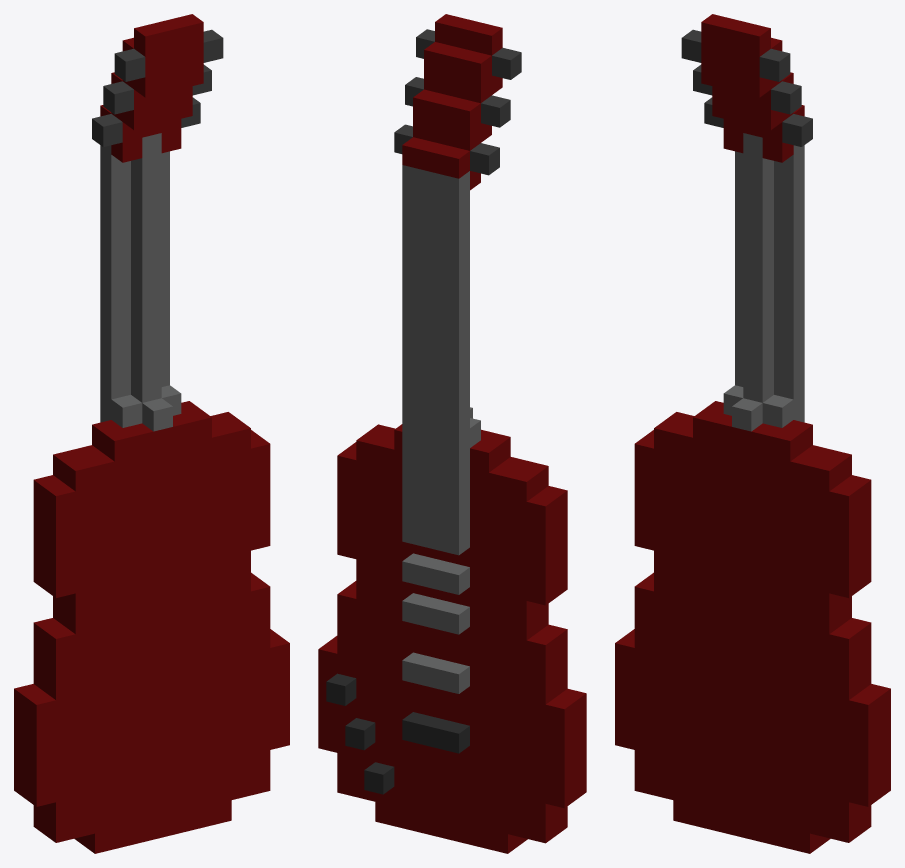
File: room-5-Guitars.obj
3 renders of one model, left to right at view 1: azimuth 30°, elevation 25°; view 2: azimuth 150°, elevation 25°; view 3: azimuth 330°, elevation 25°, orthographic. The views are drawn at different scales.
Visible parts, largest first — view 1: Guitars; view 2: Guitars; view 3: Guitars.
Part boxes in pixels (x1,y1,x2,y2): Guitars: [14, 14, 289, 853]; Guitars: [318, 14, 586, 853]; Guitars: [615, 14, 890, 853].
Size of the model in its own units: 1.3 by 4 by 0.4.
Materials: 1 (1 with a texture image).
